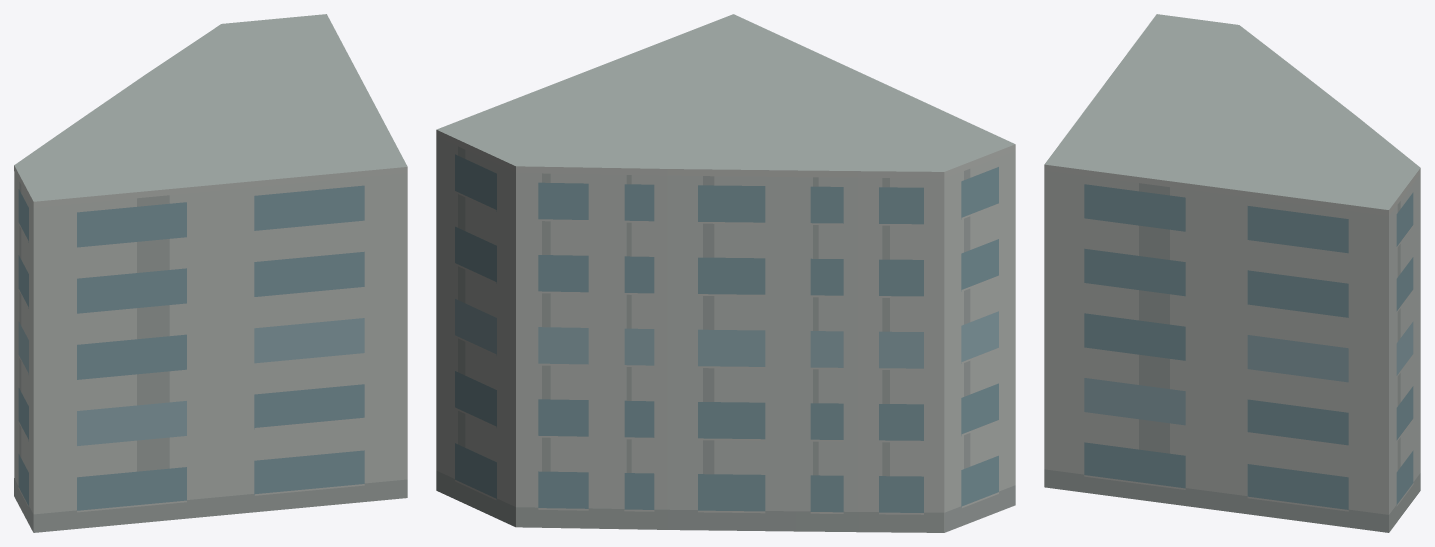
File: survey-upis-32998431.glb
3 views of the same model, side by side, from view 1: azimuth 30°, elevation 25°; view 2: azimuth 150°, elevation 25°; view 3: azimuth 270°, elevation 25° (orthographic). The views are drawn at different scales.
Parts seen in each view (by area): view 1: survey-upis-32998431.tmp; view 2: survey-upis-32998431.tmp; view 3: survey-upis-32998431.tmp.
Part boxes in pixels (left/top/right/bottom): survey-upis-32998431.tmp: left=14, top=14, right=407, bottom=532; survey-upis-32998431.tmp: left=436, top=14, right=1015, bottom=532; survey-upis-32998431.tmp: left=1044, top=14, right=1420, bottom=532.
Size of the model in its own units: 17.08 by 13.1 by 13.86.
